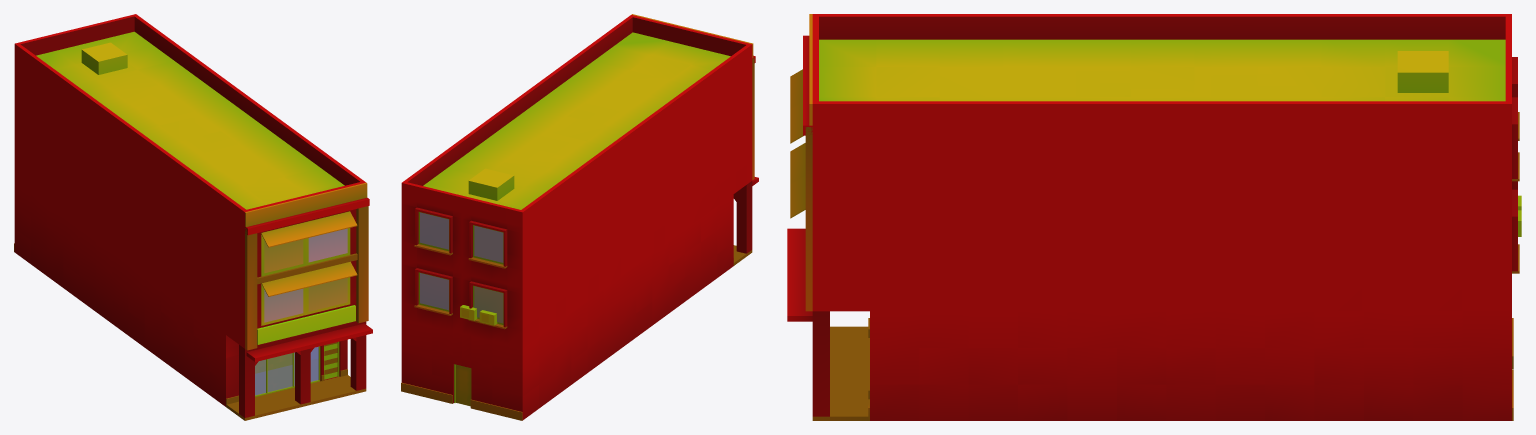
Rendered from shop_office.glb.
The picture shows the model from 3 angles, left to right: view 1: azimuth 30°, elevation 25°; view 2: azimuth 150°, elevation 25°; view 3: azimuth 270°, elevation 25°; orthographic projection. The views are drawn at different scales.
Parts seen in each view (by area): view 1: shop_office__row__LOD0; view 2: shop_office__row__LOD0; view 3: shop_office__row__LOD0.
Boxes of the visible parts, <box> form: shop_office__row__LOD0: <box>14,14,372,420</box>; shop_office__row__LOD0: <box>401,14,758,420</box>; shop_office__row__LOD0: <box>787,14,1521,420</box>.
Size of what is drawn, in the model's own units: 6.7 by 11 by 23.11.
